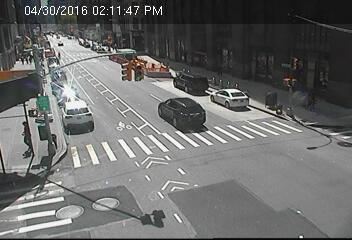neg: (115, 54, 139, 86), (46, 59, 63, 82)
pos: (6, 116, 33, 152), (302, 86, 323, 113)
